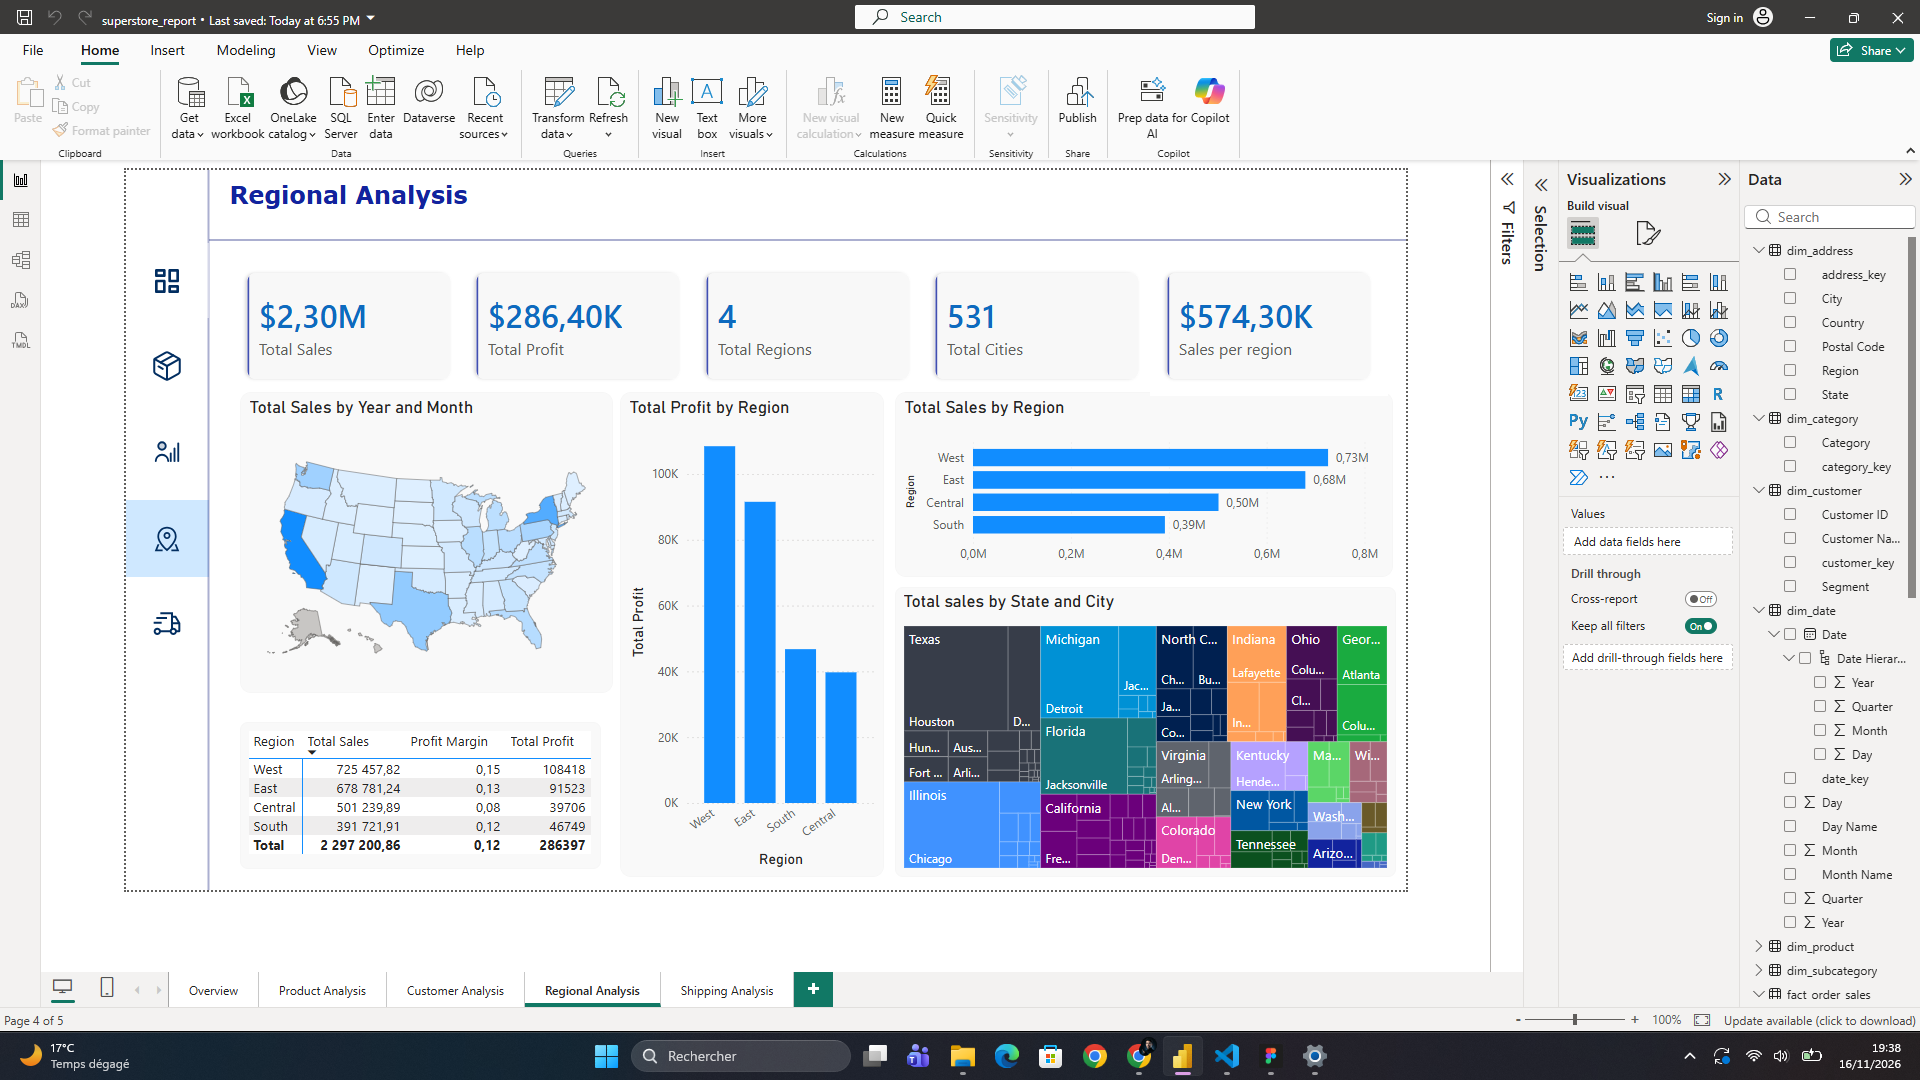

The page's visual inventory and layout, read from the dashboard file:
{"tool":"powerbi","page":{"name":"Regional Analysis","canvas":[1280,720],"ordinal":3},"visuals":[{"type":"shape","box":[83,0,1197,140],"z":0},{"type":"actionButton","title":"Product analysis","box":[0,158,83,75],"z":1000},{"type":"actionButton","title":"Product analysis","box":[0,243,83,76],"z":2000},{"type":"actionButton","title":"Product analysis","box":[0,330,83,77],"z":3000},{"type":"actionButton","title":"Product analysis","box":[0,417,83,71],"z":4000},{"type":"cardVisual","fields":{"Data":["fact_order_sales.Total_sales"]},"box":[99,81,248,150],"z":5000},{"type":"cardVisual","fields":{"Data":["fact_order_sales.Total_profit"]},"box":[328,81,248,150],"z":6000},{"type":"cardVisual","fields":{"Data":["fact_order_sales.Total_regions"]},"box":[558,81,248,150],"z":7000},{"type":"cardVisual","title":"Total Products","fields":{"Data":["fact_order_sales.Total_cities"]},"box":[787,81,248,150],"z":8000},{"type":"shapeMap","title":"Total Sales by Year and Month","fields":{"Value":["fact_order_sales.Total_sales"],"Category":["dim_address.State"]},"box":[114,222,373,301],"z":9000},{"type":"barChart","title":"Total Sales by Region","fields":{"Category":["dim_address.Region"],"Y":["fact_order_sales.Total_sales"]},"box":[769,222,498,185],"z":10000},{"type":"columnChart","fields":{"Category":["dim_address.Region"],"Y":["fact_order_sales.Total_profit"]},"box":[494,222,264,485],"z":11000},{"type":"textbox","box":[99,5,287,54],"z":12000},{"type":"cardVisual","title":"Total Products","fields":{"Data":["fact_order_sales.Sales_per_region"]},"box":[1019,81,248,150],"z":13000},{"type":"shape","box":[59,0,47,720],"z":14000},{"type":"actionButton","title":"Product analysis","box":[0,73,83,75],"z":15000},{"type":"treemap","title":"Total sales by State and City","fields":{"Values":["fact_order_sales.Total_sales"],"Group":["dim_address.State"],"Details":["dim_address.City"]},"box":[769,417,501,290],"z":16000},{"type":"pivotTable","fields":{"Rows":["dim_address.Region"],"Values":["fact_order_sales.Total_sales","fact_order_sales.Profit_margin","fact_order_sales.Total_profit"]},"box":[114,552,361,147],"z":17000}]}

Visuals, with their boxes on the page's 1280x720 design canvas (x1, y1, x2, y2). These are canvas units, not pixel positions in the 1920x1080 screenshot, which may show the page scaled, cropped or inside an application window:
shape: (left=83, top=0, right=1280, bottom=140)
"Product analysis" actionButton: (left=0, top=158, right=83, bottom=233)
"Product analysis" actionButton: (left=0, top=243, right=83, bottom=319)
"Product analysis" actionButton: (left=0, top=330, right=83, bottom=407)
"Product analysis" actionButton: (left=0, top=417, right=83, bottom=488)
cardVisual - fact_order_sales.Total_sales: (left=99, top=81, right=347, bottom=231)
cardVisual - fact_order_sales.Total_profit: (left=328, top=81, right=576, bottom=231)
cardVisual - fact_order_sales.Total_regions: (left=558, top=81, right=806, bottom=231)
"Total Products" cardVisual: (left=787, top=81, right=1035, bottom=231)
"Total Sales by Year and Month" shapeMap: (left=114, top=222, right=487, bottom=523)
"Total Sales by Region" barChart: (left=769, top=222, right=1267, bottom=407)
columnChart - dim_address.Region x fact_order_sales.Total_profit: (left=494, top=222, right=758, bottom=707)
textbox: (left=99, top=5, right=386, bottom=59)
"Total Products" cardVisual: (left=1019, top=81, right=1267, bottom=231)
shape: (left=59, top=0, right=106, bottom=720)
"Product analysis" actionButton: (left=0, top=73, right=83, bottom=148)
"Total sales by State and City" treemap: (left=769, top=417, right=1270, bottom=707)
pivotTable - dim_address.Region x fact_order_sales.Total_sales: (left=114, top=552, right=475, bottom=699)
